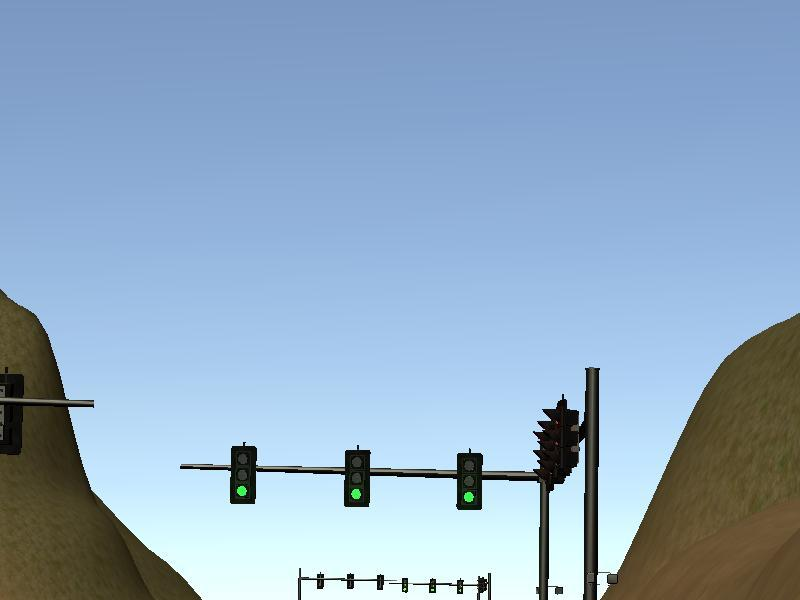Green: (230, 446, 256, 505), (456, 453, 482, 512), (344, 449, 370, 508)
